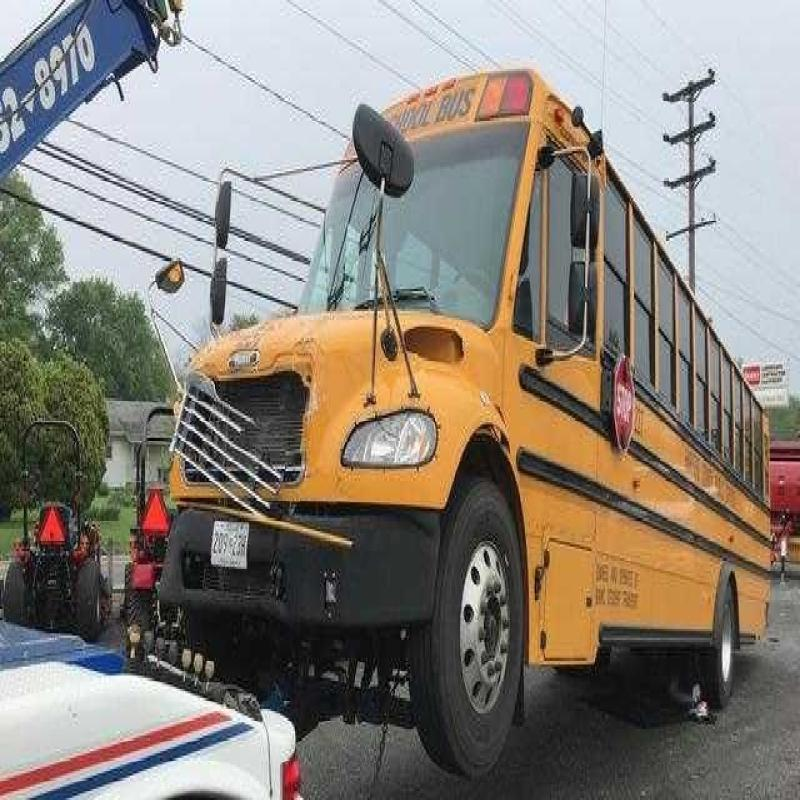bus: (153, 83, 774, 740)
